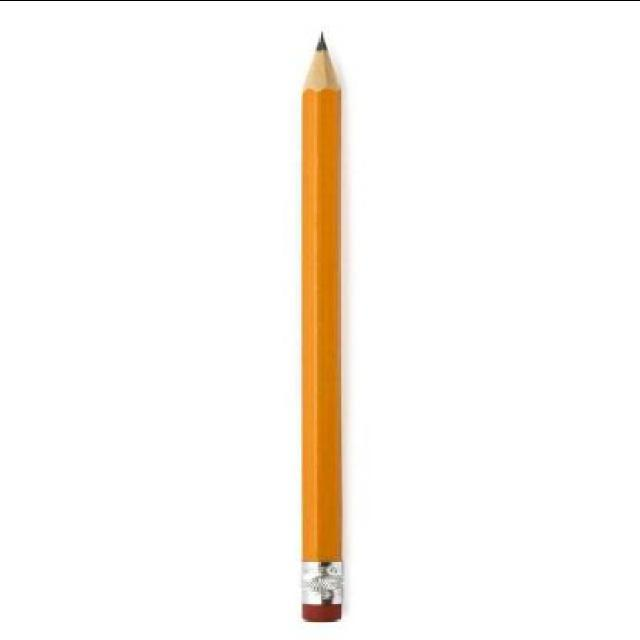Pencil: (288, 25, 348, 107)
